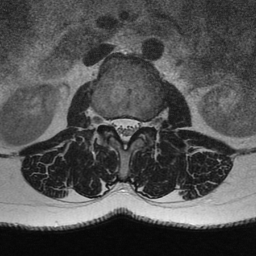CCS_normal: (120, 109, 129, 157)
LFS_stenosis: (139, 112, 149, 136)
LLS_normal: (129, 108, 139, 143)
RFS_stenosis: (102, 108, 111, 137)
RLS_normal: (111, 111, 120, 143)
